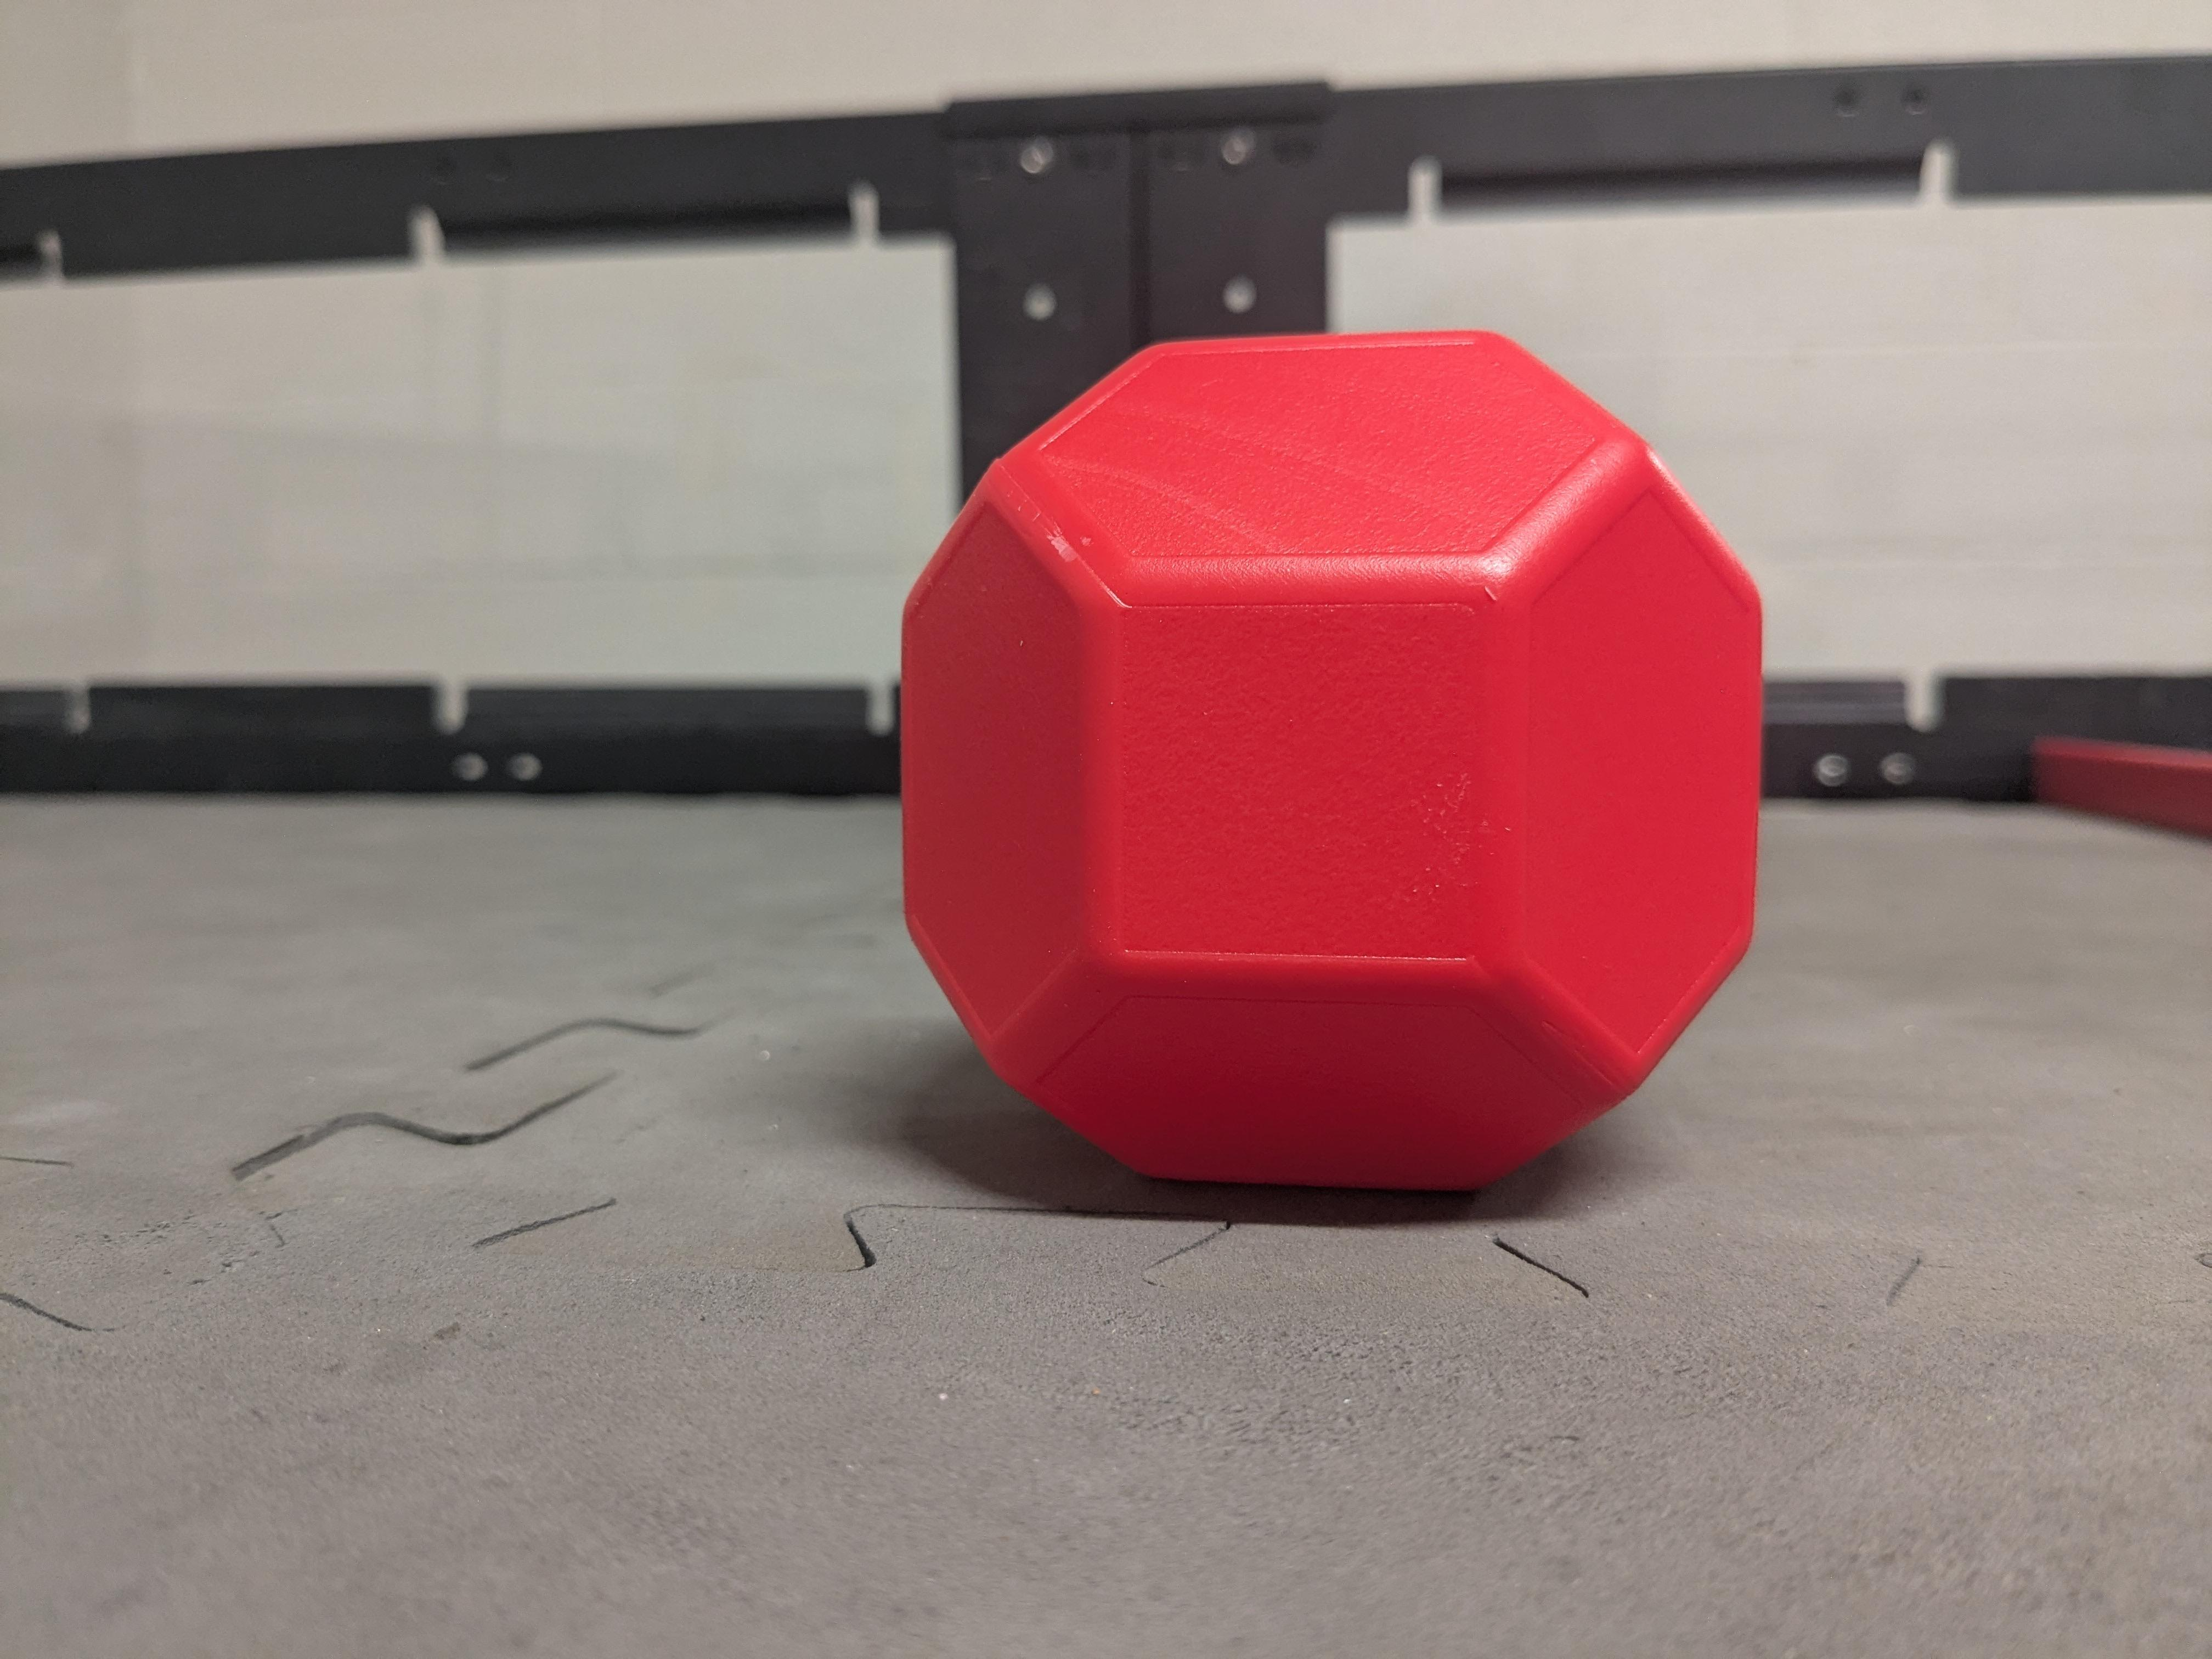Vex-Pieces-RED: (899, 331, 1766, 1202)
